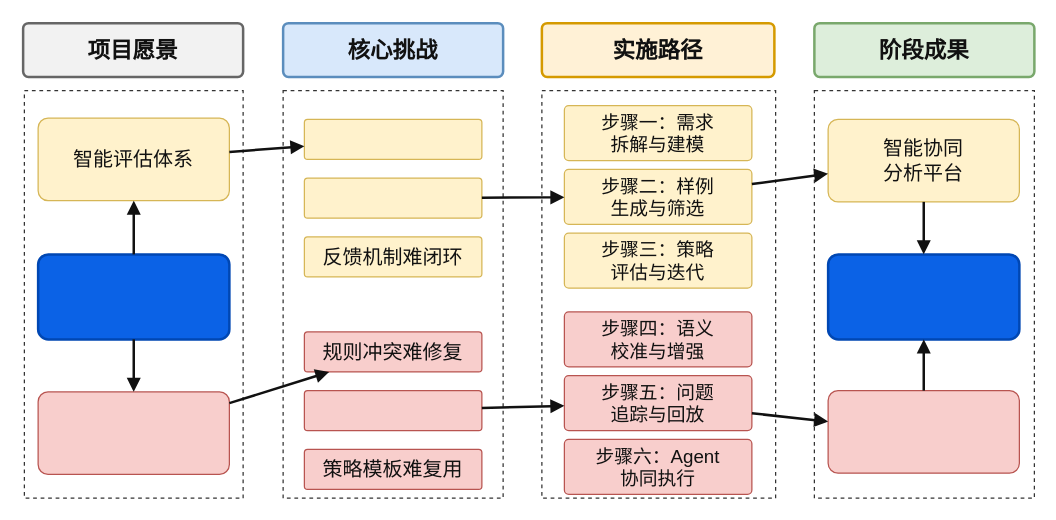
Some shapes in this 1056 by 520 pixel diagram are drawn without their labels. Here are the shapes that lost their labels. From the top down, the centre of each, then its label:
(392,138): 场景边界难定义
(392,197): 多源数据难融合
(133,296): 数据驱动的 流程优化
(923,296): 全流程质量闭环
(392,410): 异常片段难定位
(133,432): 自动化风险 识别与处置
(923,431): 自动化问题 生成平台
